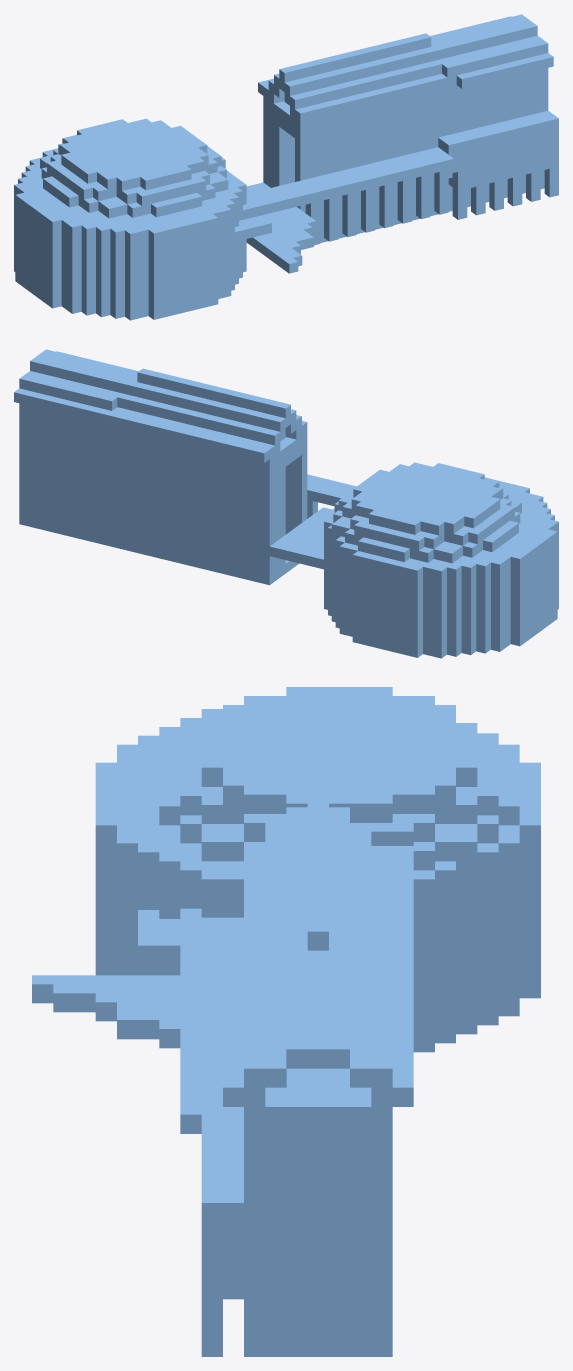
The model's file is kagoshimaarena.glb.
3 views of the same model, one above another, from view 1: azimuth 30°, elevation 25°; view 2: azimuth 150°, elevation 25°; view 3: azimuth 270°, elevation 25° (orthographic). The views are drawn at different scales.
Parts seen in each view (by area): view 1: Untitled; view 2: Untitled; view 3: Untitled.
Part boxes in pixels (x1,y1,x2,y2): Untitled: (14,14,558,320); Untitled: (14,349,558,658); Untitled: (32,687,540,1356).
Size of the model in its own units: 1.08 by 0.34 by 0.48.
Materials: 1 (1 with a texture image).
